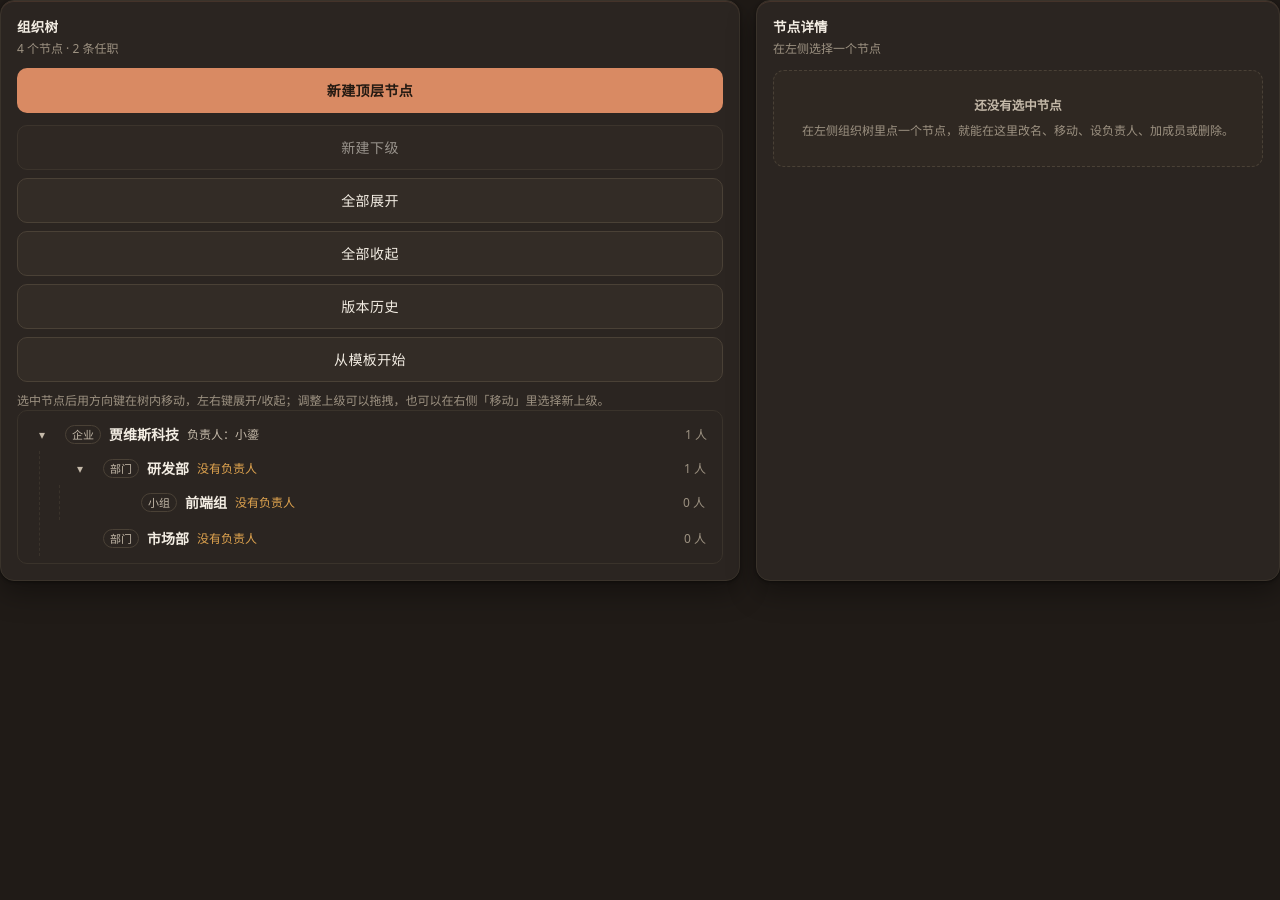
Test: 组织架构页 › 同级重名返回 409 时，错误留在表单里而不是静默失败
Expected: the text "贾维斯科技" is shown, [109,424,179,445]
Click the button "新建顶层节点" at (370, 91), box [17,68,723,113]
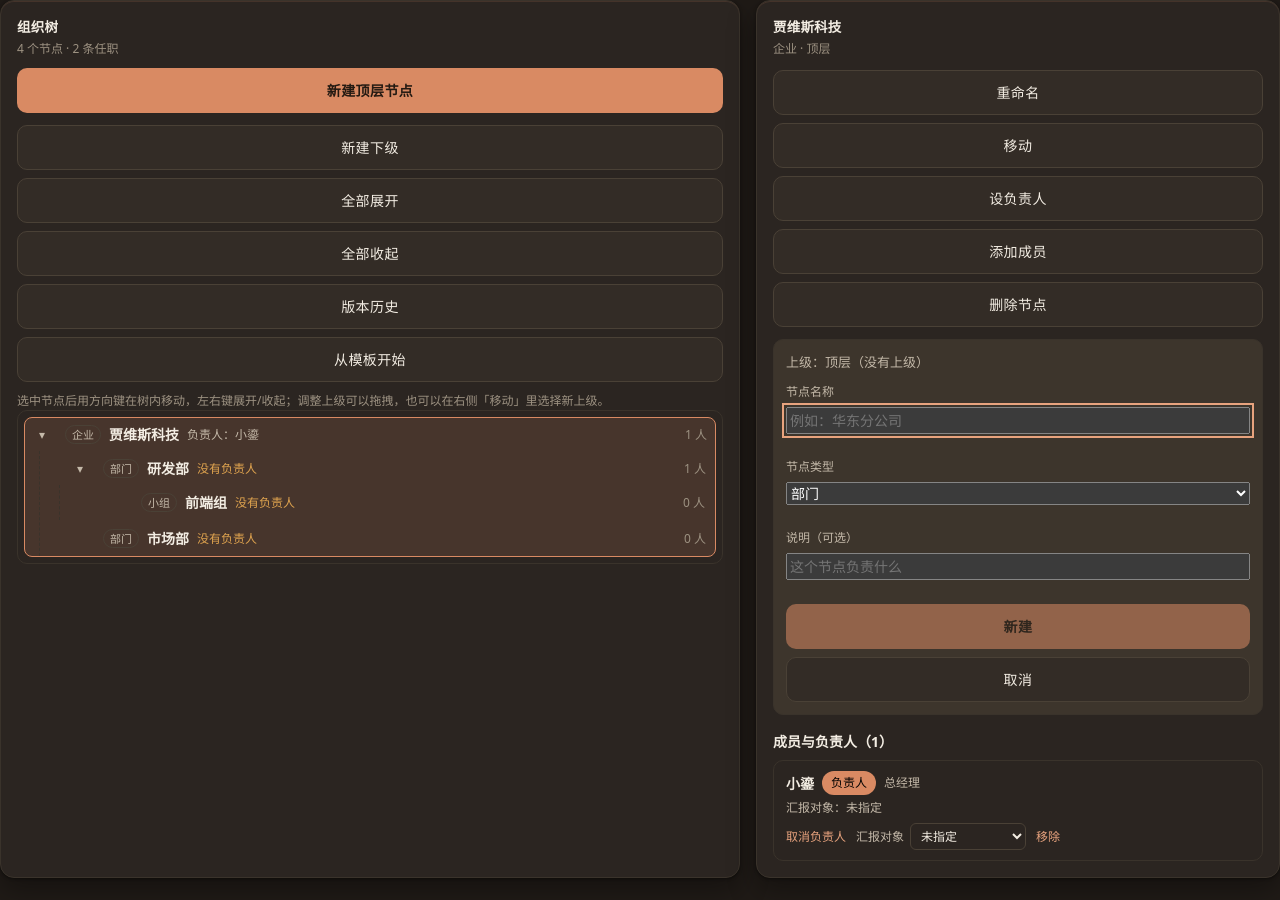
Type "重名部门" into the field labelled "节点名称" at (1018, 420), box [786,407,1250,434]
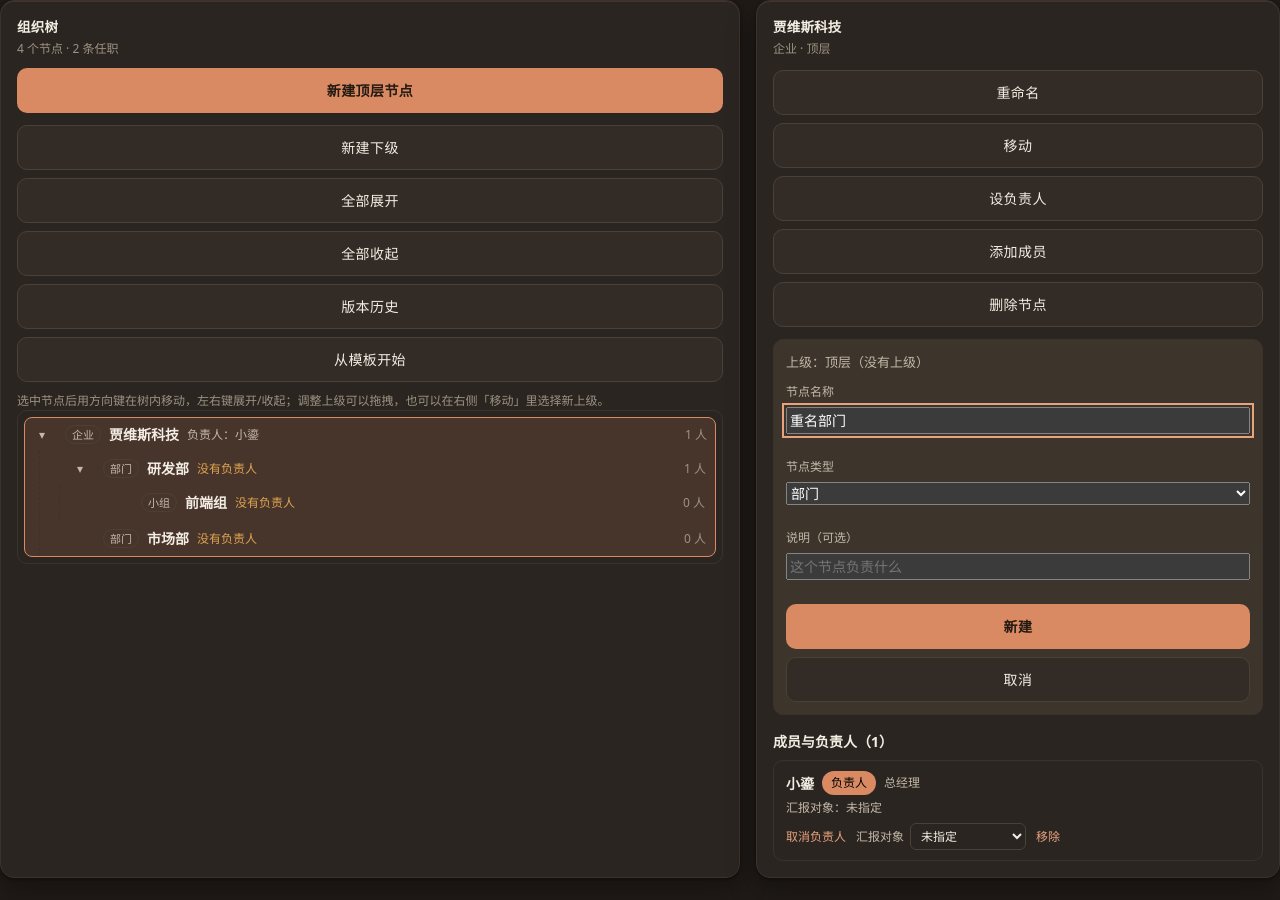
Click the button "新建" at (1018, 626), box [786,604,1250,649]
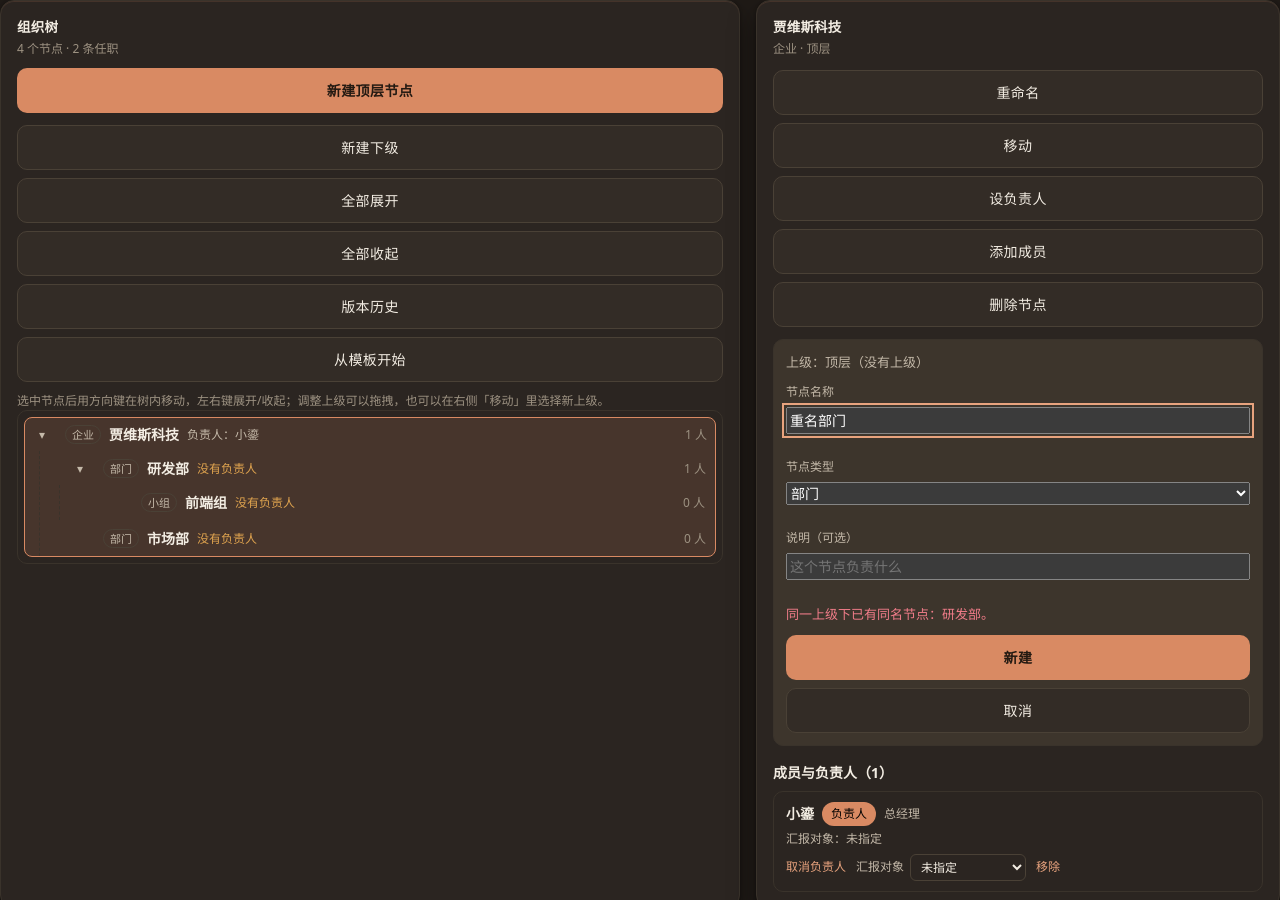
Expected: the message shows "已有同名节点", [786,605,994,623]
